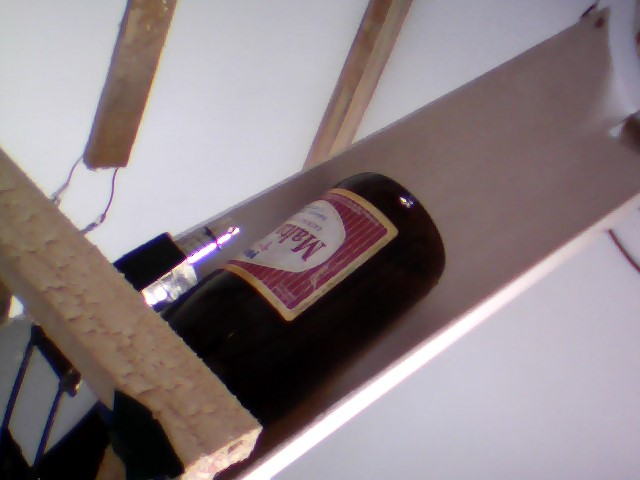vidrio: (182, 163, 451, 429)
